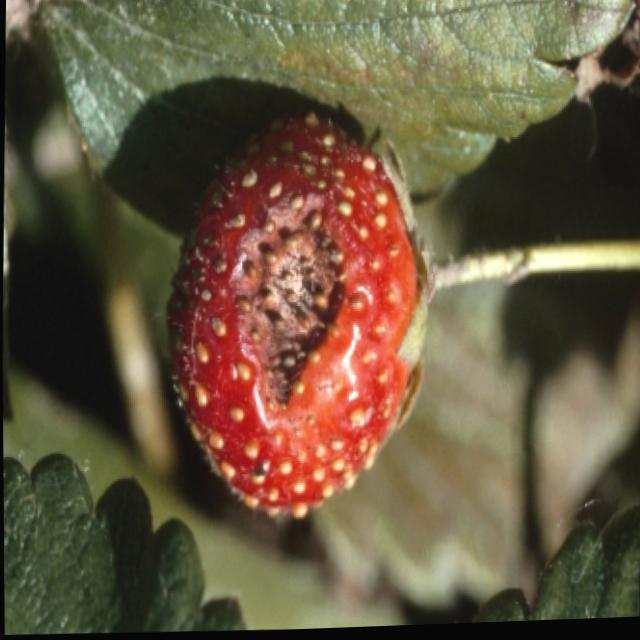Anthracnose Fruit Rot: (227, 169, 349, 438)
